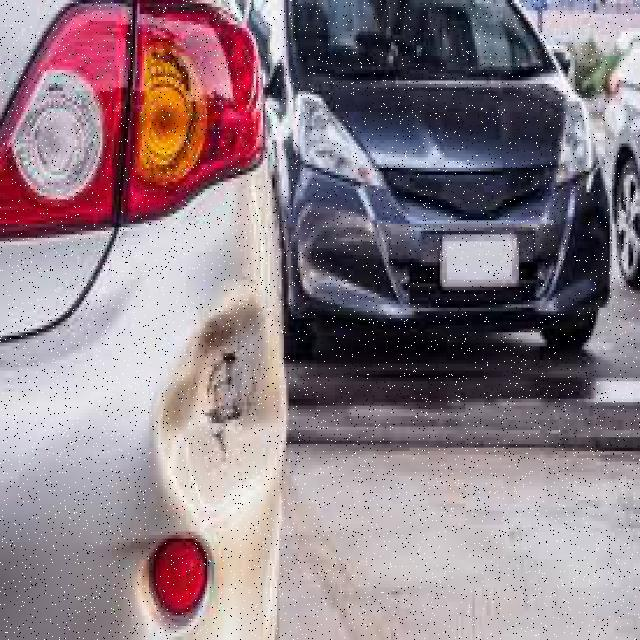rear-bumper-dent: (0, 210, 307, 636)
